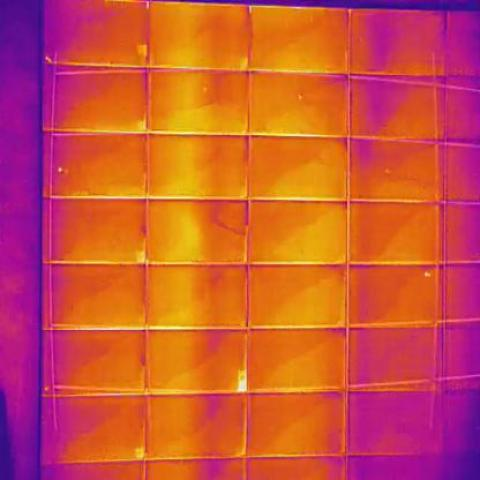fault: (239, 378, 250, 394)
